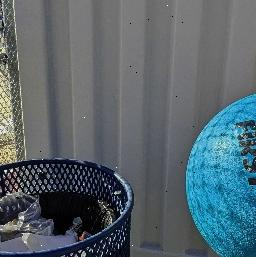algae: (187, 90, 256, 257)
